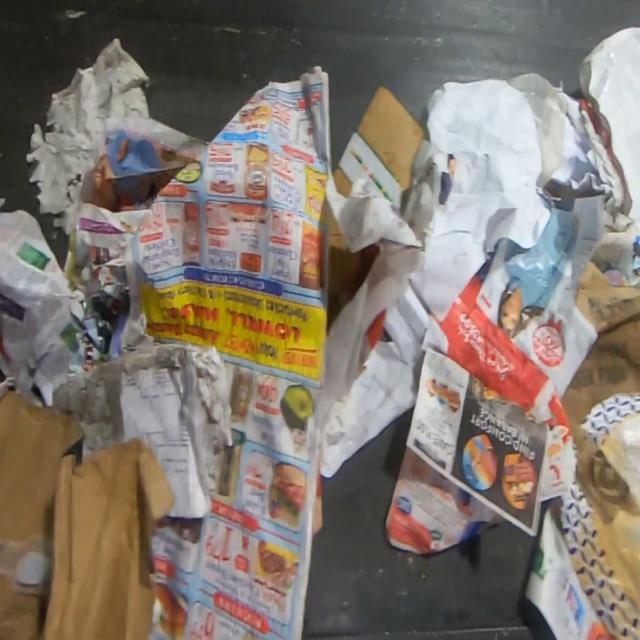cardboard: (0, 389, 176, 638), (562, 259, 640, 528), (332, 80, 424, 214), (327, 212, 375, 332)
